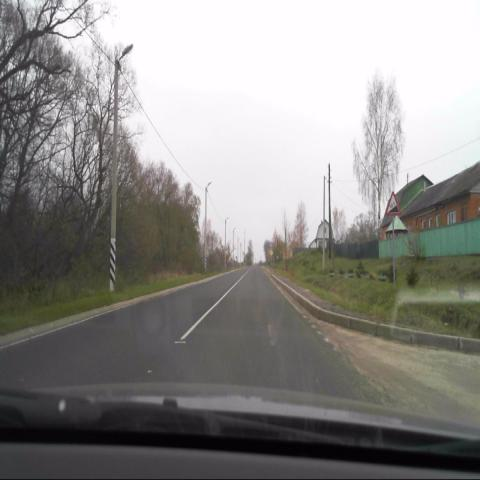1_14: (384, 189, 402, 216)
